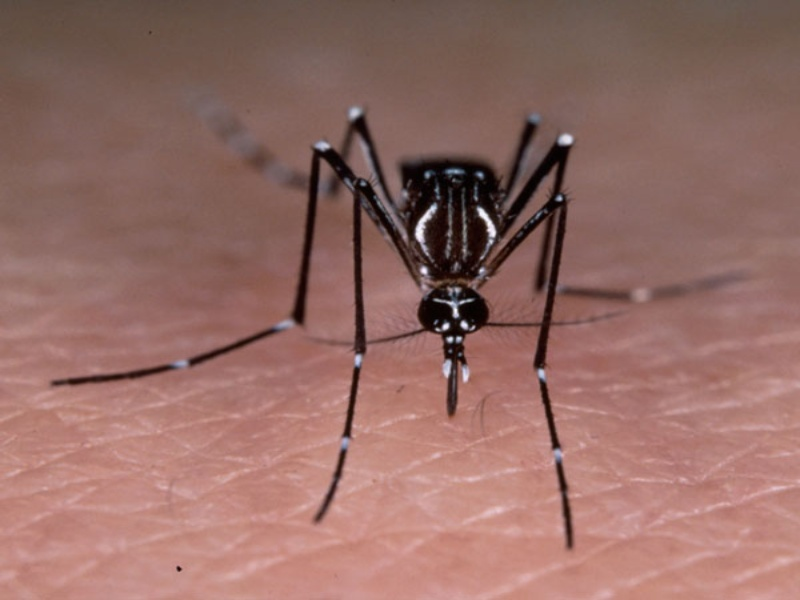dengue_mosquito: (303, 134, 577, 387)
